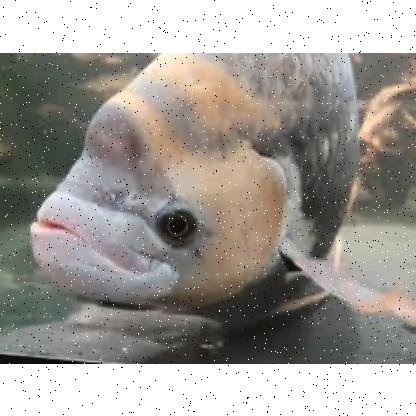gurame: (30, 52, 376, 314)
